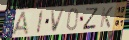0: (66, 7, 80, 32)
A: (9, 11, 30, 37)
I: (35, 9, 45, 34)
K: (99, 6, 114, 29)
V: (50, 8, 67, 34)
Z: (81, 7, 100, 31)
